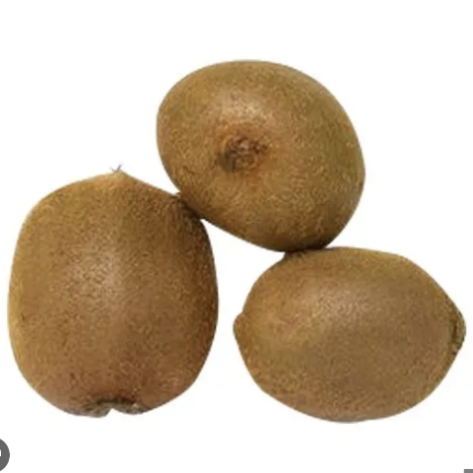kiwi: (0, 151, 229, 441), (140, 44, 388, 270), (221, 248, 465, 446)
